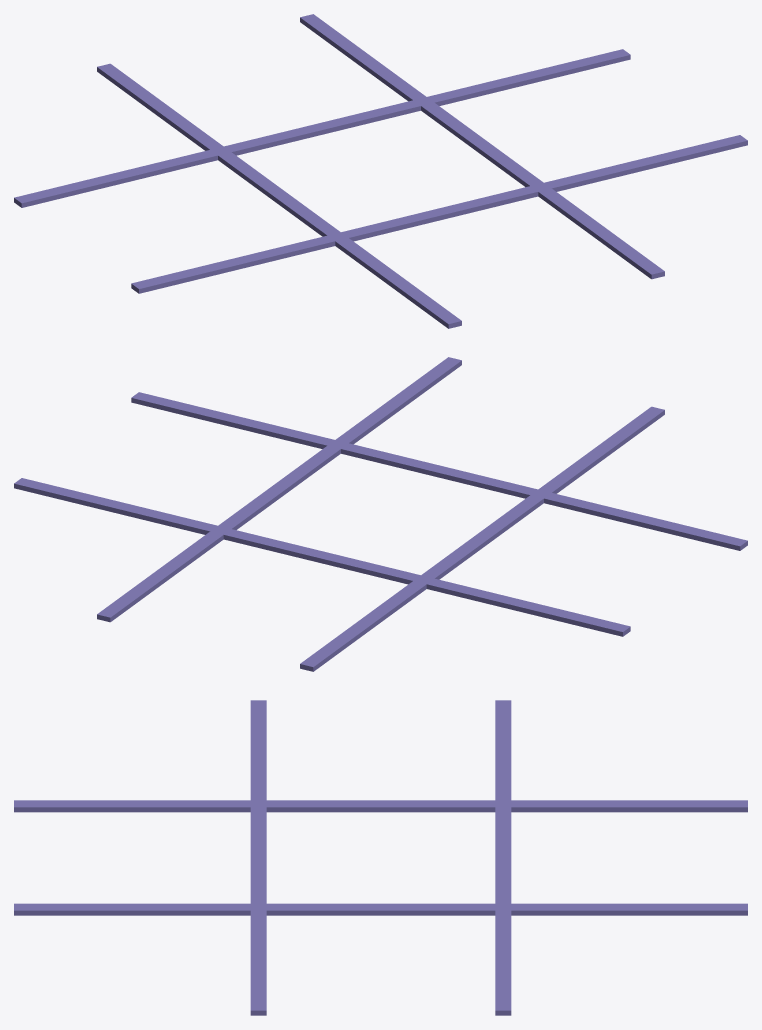
3 views of the same model, one above another, from view 1: azimuth 30°, elevation 25°; view 2: azimuth 150°, elevation 25°; view 3: azimuth 270°, elevation 25° (orthographic). The views are drawn at different scales.
Visible parts, largest first — view 1: Grid; view 2: Grid; view 3: Grid.
Boxes of the visible parts, x1,y1,x2,y2 form: Grid: (14, 14, 747, 328); Grid: (14, 357, 747, 671); Grid: (14, 700, 747, 1015).
Bounding box in the file's own units: 0.135 × 0.135 × 0.001.
